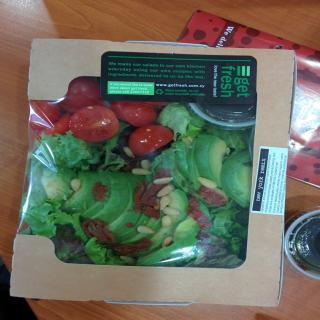tomato: (64, 103, 124, 139), (58, 76, 100, 116), (129, 124, 177, 157), (111, 100, 153, 130), (36, 111, 71, 138), (28, 100, 58, 128), (146, 99, 171, 106)
